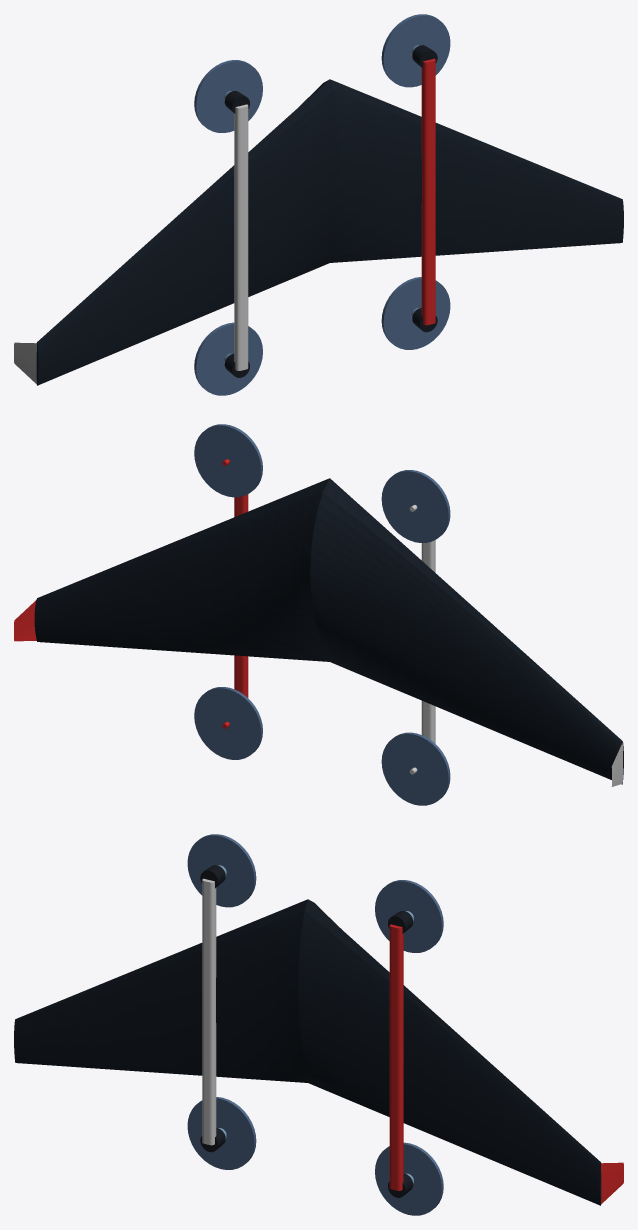
The model's file is vtol_wing.obj.
3 renders of one model, top to bottom at view 1: azimuth 30°, elevation 25°; view 2: azimuth 150°, elevation 25°; view 3: azimuth 330°, elevation 25°, orthographic.
Parts seen in each view (by area): view 1: wing_body_0, prop_grey_5, green_metal_2, red_metal_1, motor_dark_3; view 2: wing_body_0, prop_grey_5, red_metal_1, green_metal_2; view 3: wing_body_0, prop_grey_5, red_metal_1, green_metal_2, motor_dark_3.
Part boxes in pixels (bbox=[...]): wing_body_0: bbox=[36, 79, 623, 385]; prop_grey_5: bbox=[194, 14, 450, 395]; green_metal_2: bbox=[14, 104, 248, 384]; red_metal_1: bbox=[421, 58, 435, 325]; motor_dark_3: bbox=[224, 45, 437, 377]; wing_body_0: bbox=[34, 478, 623, 784]; prop_grey_5: bbox=[194, 424, 450, 805]; red_metal_1: bbox=[14, 459, 248, 728]; green_metal_2: bbox=[409, 505, 622, 786]; wing_body_0: bbox=[14, 899, 601, 1205]; prop_grey_5: bbox=[187, 834, 443, 1215]; red_metal_1: bbox=[389, 924, 623, 1204]; green_metal_2: bbox=[202, 878, 216, 1145]; motor_dark_3: bbox=[200, 865, 413, 1197].
Bounding box in the file's own units: 1.43 × 0.76 × 0.121.
